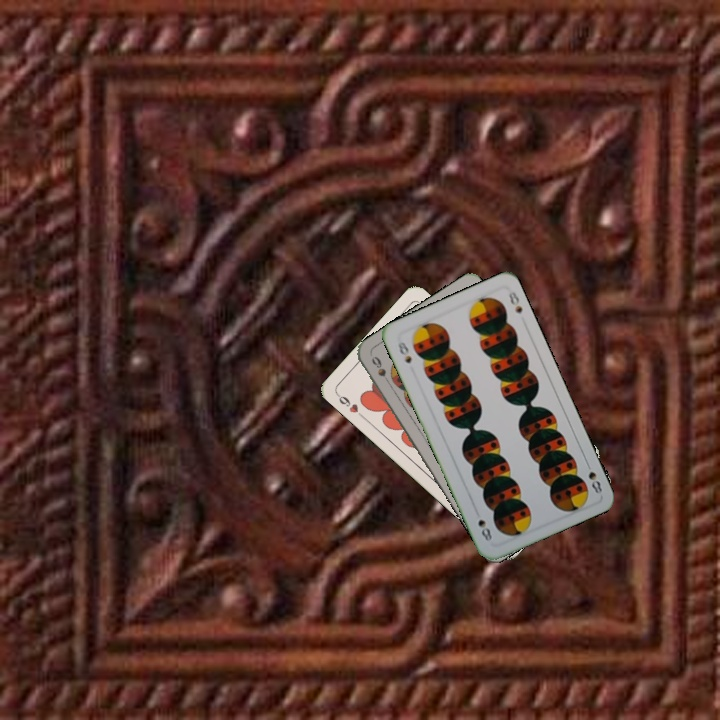H9: (333, 390, 366, 421)
S8: (582, 457, 605, 496), (394, 338, 414, 366)
S9: (367, 352, 394, 389)
